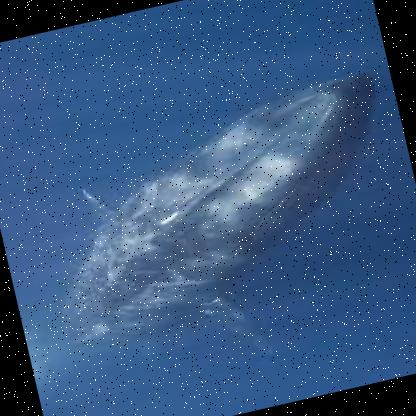blue_whale: (1, 43, 415, 390)
